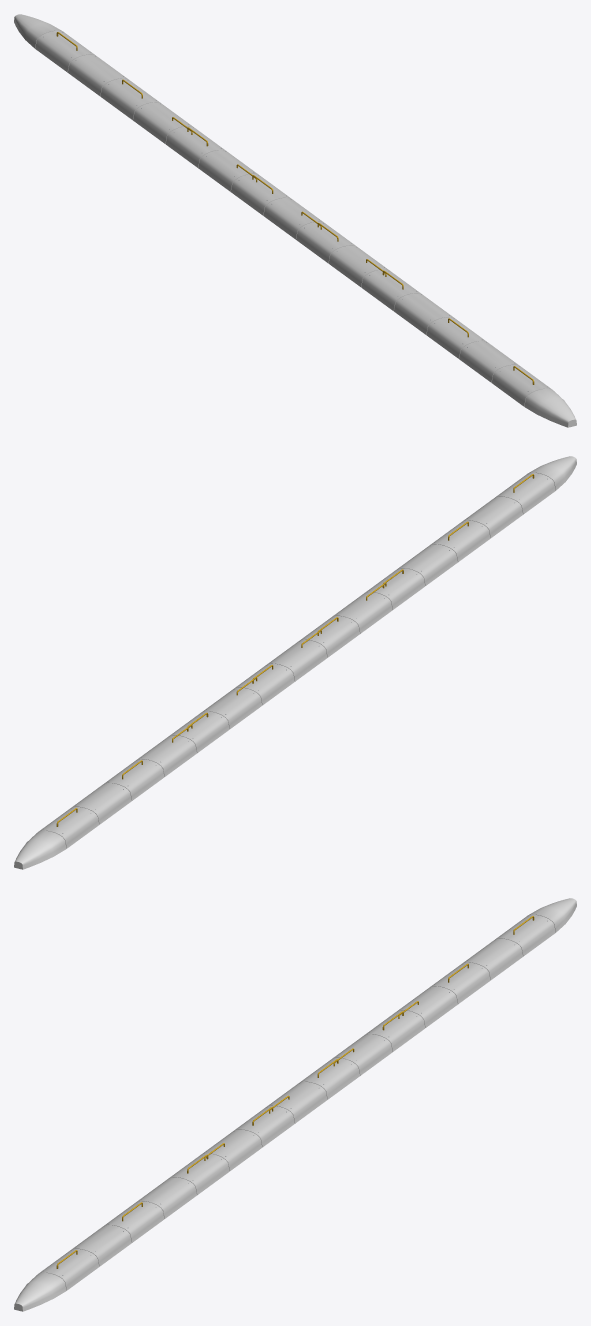
File: estilo_lomo.glb
3 views of the same model, one above another, from view 1: azimuth 30°, elevation 25°; view 2: azimuth 150°, elevation 25°; view 3: azimuth 330°, elevation 25° (orthographic).
Parts seen in each view (by area): view 1: b400x160x12000; view 2: b400x160x12000; view 3: b400x160x12000.
Boxes of the visible parts, x1=… form: b400x160x12000: x1=14, y1=14, x2=576, y2=427; b400x160x12000: x1=14, y1=456, x2=576, y2=869; b400x160x12000: x1=14, y1=898, x2=576, y2=1311.
Bounding box in the file's own units: 0.4 × 0.2176 × 11.99.
